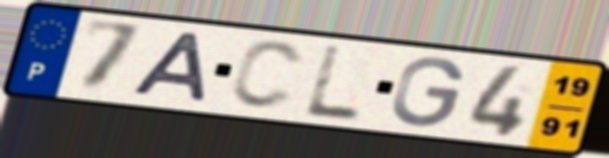4: (466, 63, 528, 139)
7: (82, 17, 143, 96)
A: (126, 29, 210, 106)
C: (226, 38, 308, 113)
G: (388, 55, 468, 129)
L: (300, 43, 364, 124)
